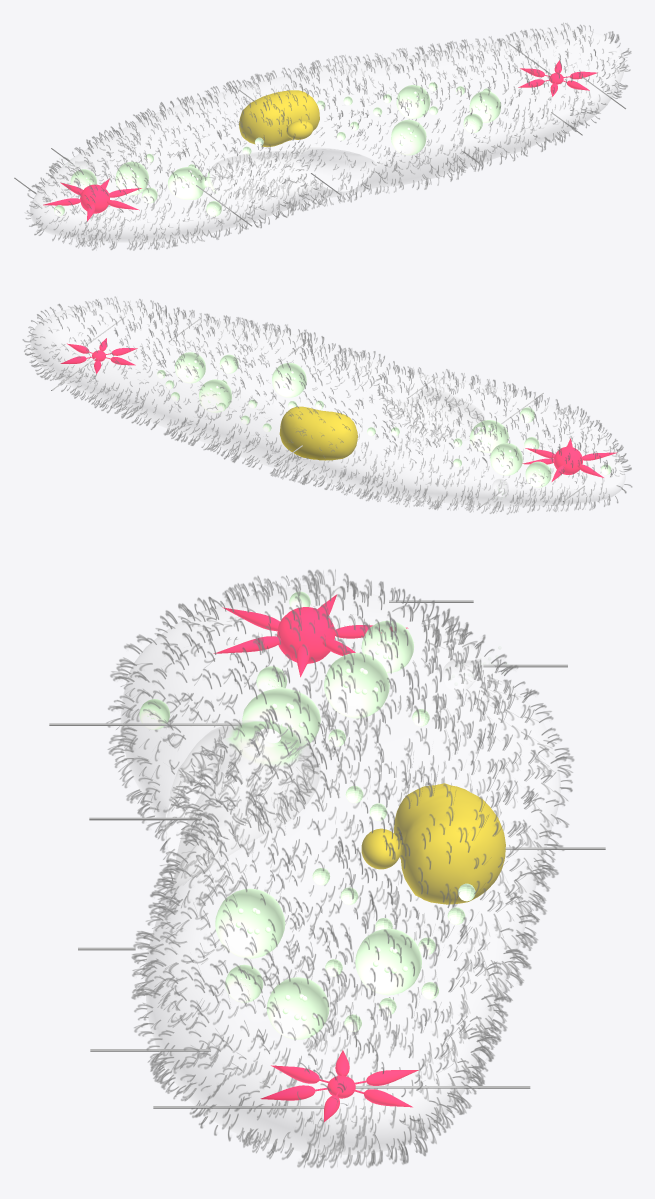
File: caolvchong.gltf
3 views of the same model, one above another, from view 1: azimuth 30°, elevation 25°; view 2: azimuth 150°, elevation 25°; view 3: azimuth 270°, elevation 25° (orthographic). The views are drawn at different scales.
Visible parts, largest first — view 1: waipi, xianmao, xibaohe_l, shensuopao_l, shensuopao_s, line, xibaohe_s, paopao; view 2: waipi, xianmao, xibaohe_l, shensuopao_l, shensuopao_s, line, paopao; view 3: waipi, xianmao, xibaohe_l, shensuopao_l, line, shensuopao_s, xibaohe_s, paopao.
Boxes of the visible parts, x1,y1,x2,y2 form: waipi: [30, 29, 624, 242]; xianmao: [25, 23, 631, 250]; xibaohe_l: [239, 90, 319, 146]; shensuopao_l: [43, 178, 141, 221]; shensuopao_s: [518, 60, 596, 96]; line: [14, 43, 625, 226]; xibaohe_s: [286, 120, 313, 139]; paopao: [81, 91, 491, 211]; waipi: [30, 304, 625, 506]; xianmao: [22, 296, 632, 514]; xibaohe_l: [279, 406, 357, 460]; shensuopao_l: [522, 438, 617, 481]; shensuopao_s: [60, 338, 137, 373]; line: [51, 316, 584, 507]; paopao: [184, 360, 541, 482]; waipi: [121, 585, 560, 1154]; xianmao: [106, 569, 574, 1168]; xibaohe_l: [394, 783, 505, 904]; shensuopao_l: [213, 594, 408, 677]; line: [49, 600, 605, 1108]; shensuopao_s: [260, 1050, 418, 1121]; xibaohe_s: [361, 828, 400, 869]; paopao: [147, 641, 407, 1020].
Size of the model in its own units: 12.04 by 2.32 by 4.79.
7 materials, 2 textured.
